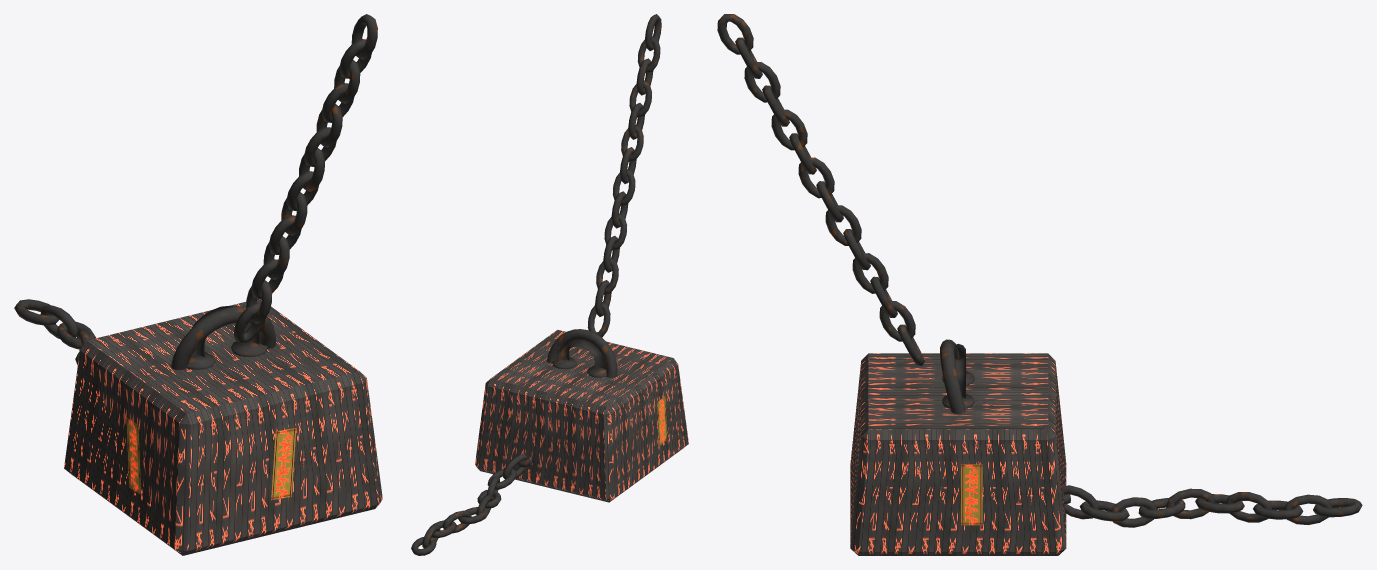
Rendered from chain_anchor.glb.
3 views of the same model, side by side, from view 1: azimuth 30°, elevation 25°; view 2: azimuth 150°, elevation 25°; view 3: azimuth 270°, elevation 25° (orthographic). The views are drawn at different scales.
Parts seen in each view (by area): view 1: AnchorBlock, AnchorChains, AnchorIron, AnchorTalismans; view 2: AnchorBlock, AnchorChains, AnchorIron, AnchorTalismans; view 3: AnchorBlock, AnchorChains, AnchorIron, AnchorTalismans.
Boxes of the visible parts, box(x1,y1,x2,y2) form: AnchorBlock: box(64, 299, 382, 555); AnchorChains: box(14, 14, 377, 365); AnchorIron: box(171, 305, 275, 369); AnchorTalismans: box(126, 418, 296, 500); AnchorBlock: box(475, 329, 688, 502); AnchorChains: box(411, 14, 661, 555); AnchorIron: box(547, 329, 617, 377); AnchorTalismans: box(657, 396, 666, 446); AnchorBlock: box(850, 353, 1066, 555); AnchorChains: box(717, 14, 1362, 527); AnchorIron: box(940, 339, 974, 413); AnchorTalismans: box(961, 464, 982, 525).
Size of what is drawn, in the model's own units: 1.61 by 4.15 by 4.78.
Materials: 3 (3 with a texture image).
